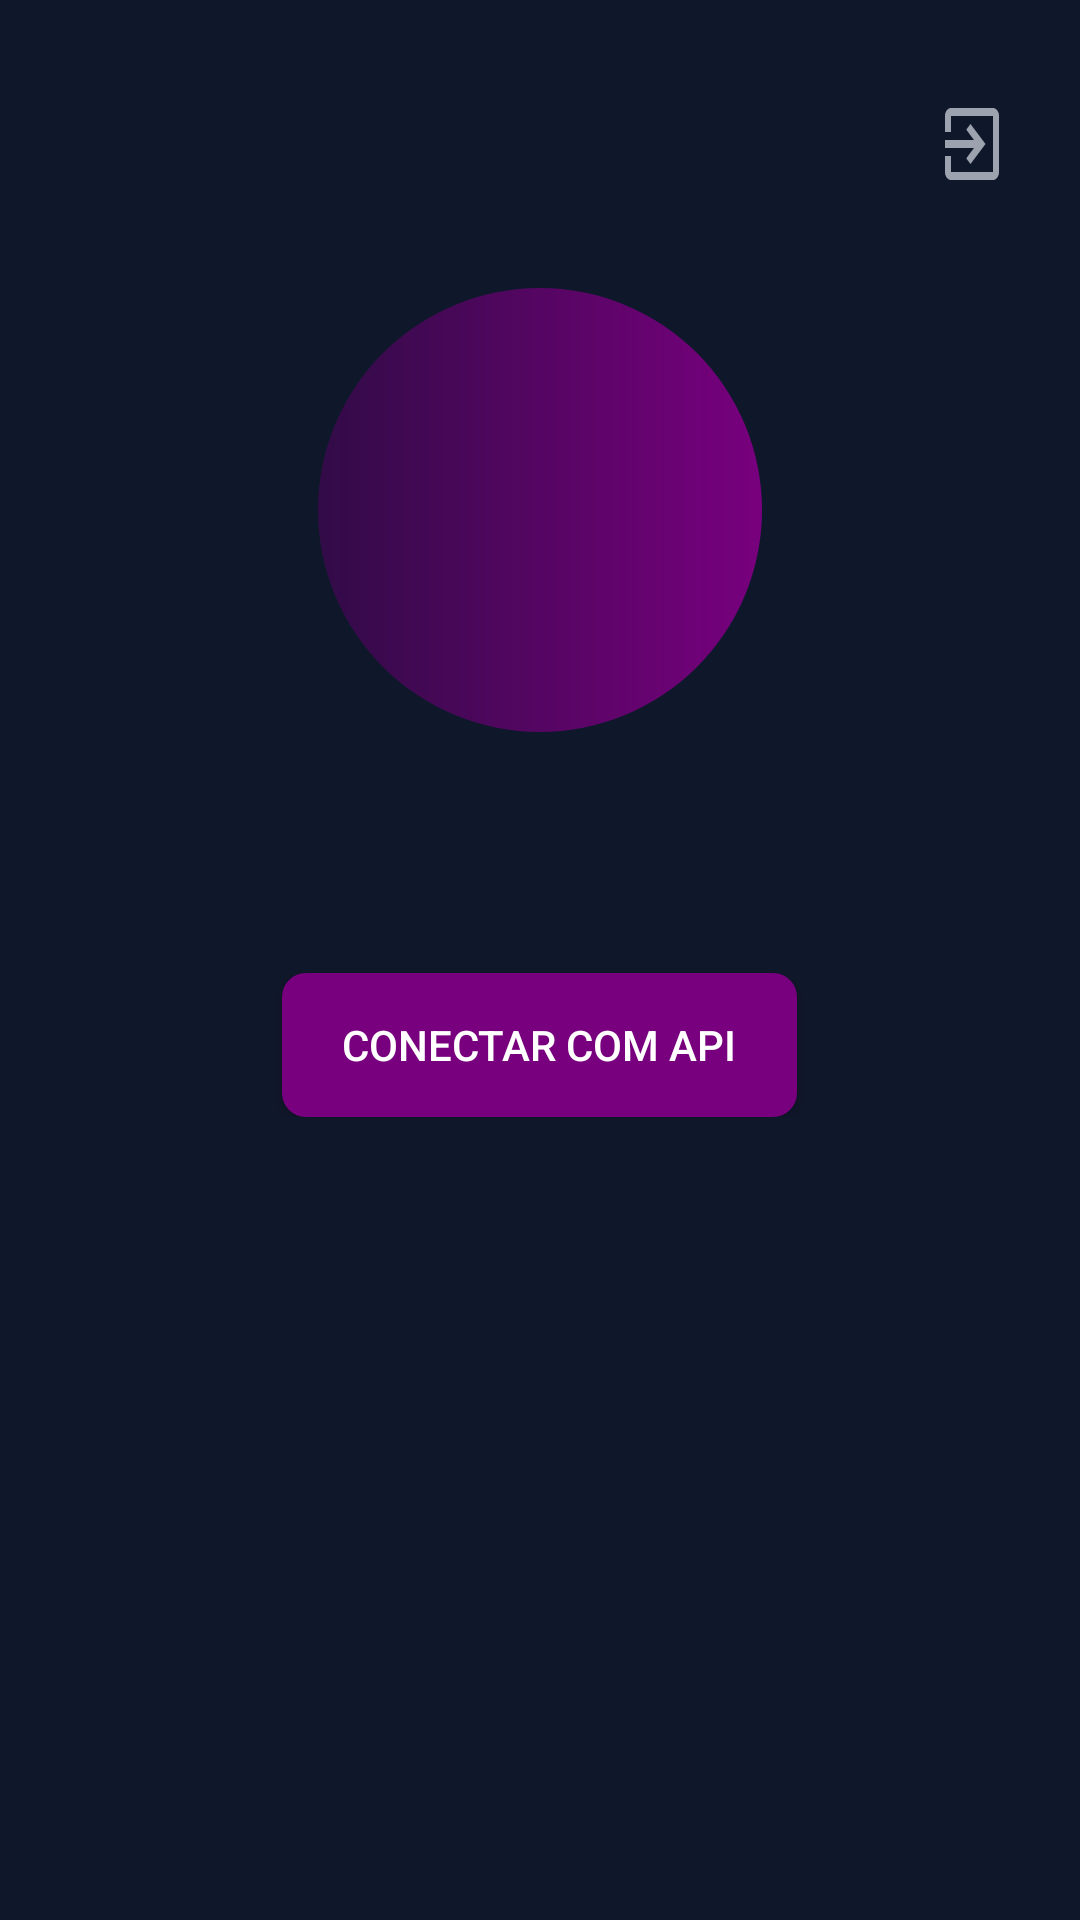

Named icons in this screenshot (1080px x 1920px) and their bounding boxes, (x1, y1, x2, y2):
exit to app: (945, 108, 999, 180)
